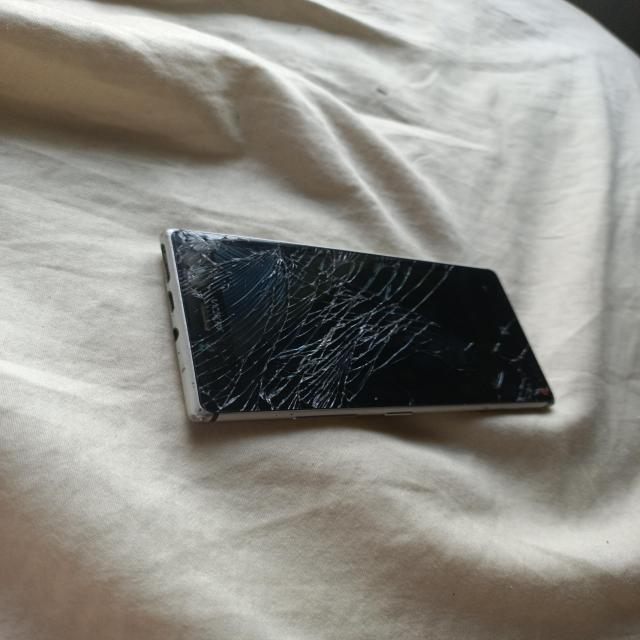mobile: (94, 198, 574, 491)
